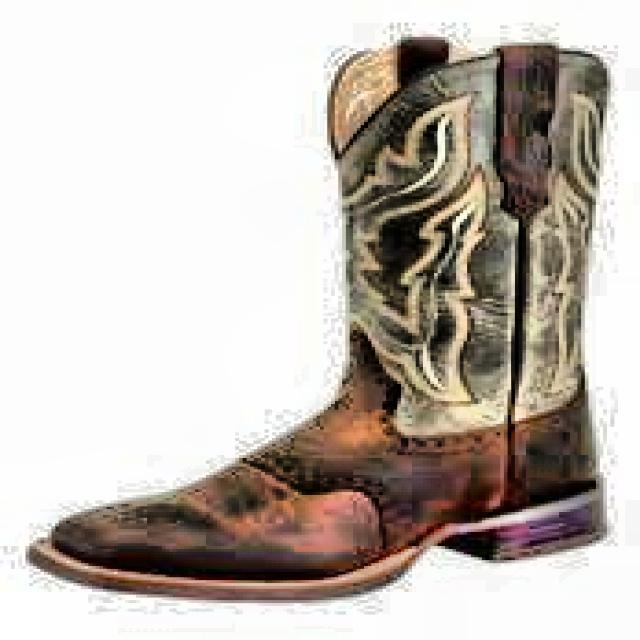shoes: (29, 29, 626, 607)
